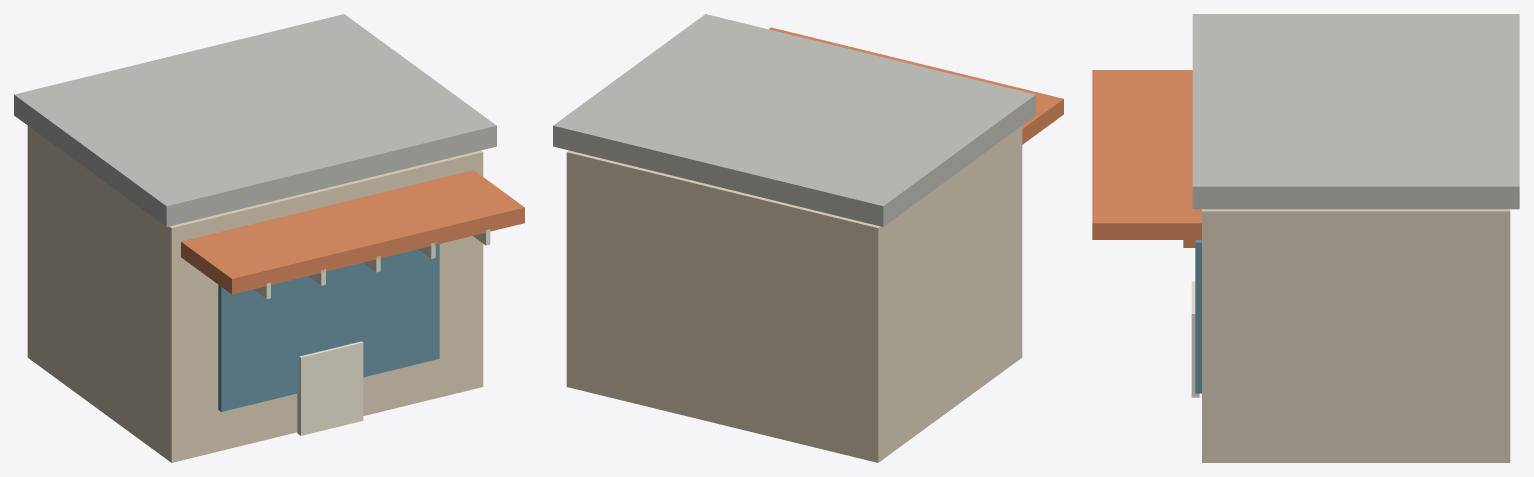
Rendered from shop.gltf.
The picture shows the model from 3 angles, left to right: view 1: azimuth 30°, elevation 25°; view 2: azimuth 150°, elevation 25°; view 3: azimuth 270°, elevation 25°; orthographic projection. The views are drawn at different scales.
Parts seen in each view (by area): view 1: shop_building; view 2: shop_building; view 3: shop_building.
Part boxes in pixels (bbox=[...]): shop_building: bbox=[14, 14, 524, 462]; shop_building: bbox=[553, 14, 1063, 462]; shop_building: bbox=[1092, 14, 1519, 462].
Bounding box in the file's own units: 2.65 × 2.01 × 2.77.
